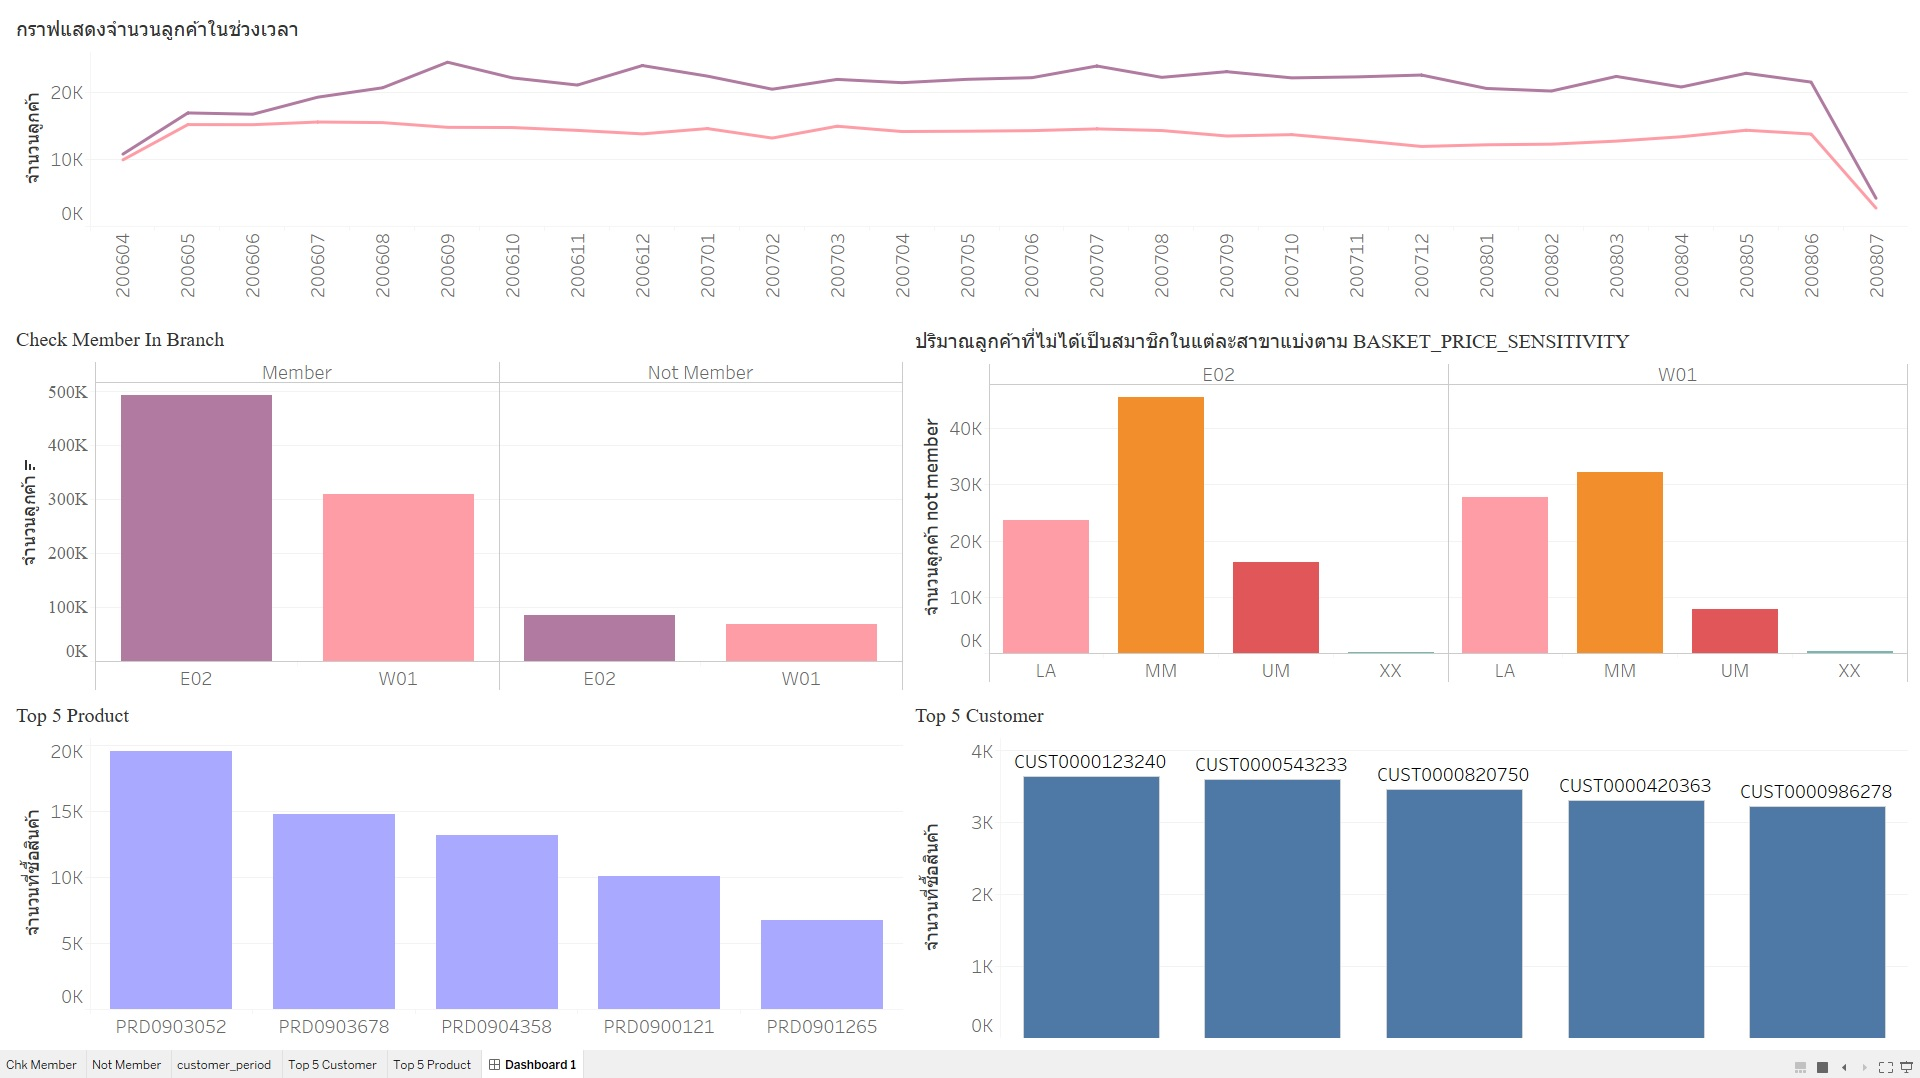

The dashboard page shown, as its layout file describes it:
{"tool":"tableau","page":{"name":"Dashboard 1","canvas":[1654,1169],"ordinal":0},"visuals":[{"type":"worksheet","box":[0,0,1654,1169]},{"type":"worksheet","param":"horz","box":[8,8,1638,1153]},{"type":"worksheet","box":[8,8,1638,1153]},{"type":"worksheet","title":"customer_period","mark":"Line","rows":["Calculation_1438900095078506496"],"cols":["Calculation_1438900095086309379"],"box":[8,8,1638,348.4]},{"type":"worksheet","param":"horz","box":[8,356.4,1638,804.6]},{"type":"worksheet","box":[8,356.4,1638,804.6]},{"type":"worksheet","param":"horz","box":[8,356.4,1638,804.6]},{"type":"worksheet","param":"horz","box":[8,356.4,1638,804.6]},{"type":"worksheet","param":"horz","box":[8,356.4,1638,804.6]},{"type":"worksheet","param":"horz","box":[8,356.4,1638,804.6]},{"type":"worksheet","box":[8,356.4,1638,804.6]},{"type":"worksheet","title":"Chk Member","mark":"Automatic","rows":["Calculation_1438900095078506496"],"cols":["Calculation_1438900095078608897","STORE_REGION"],"box":[8,356.4,773.4,418.2]},{"type":"worksheet","title":"Not Member","mark":"Automatic","rows":["Calculation_1438900095078506496"],"cols":["STORE_REGION","BASKET_PRICE_SENSITIVITY"],"box":[781.4,356.4,864.6,418.2]},{"type":"worksheet","title":"Top 5 Product","mark":"Automatic","rows":["Calculation_1438900095089205252"],"cols":["PROD_CODE"],"box":[8,774.6,773.4,386.4]},{"type":"worksheet","title":"Top 5 Customer","mark":"Automatic","rows":["Calculation_1438900095089205252"],"cols":["CUST_CODE"],"box":[781.4,774.6,864.6,386.4]}]}

Visuals, with their boxes on the page's 1654x1169 design canvas (x1, y1, x2, y2). These are canvas units, not pixel positions in the 1920x1078 screenshot, which may show the page scaled, cropped or inside an application window:
worksheet: [x1=0, y1=0, x2=1654, y2=1169]
worksheet: [x1=8, y1=8, x2=1646, y2=1161]
worksheet: [x1=8, y1=8, x2=1646, y2=1161]
"customer_period" worksheet (Line marks): [x1=8, y1=8, x2=1646, y2=356]
worksheet: [x1=8, y1=356, x2=1646, y2=1161]
worksheet: [x1=8, y1=356, x2=1646, y2=1161]
worksheet: [x1=8, y1=356, x2=1646, y2=1161]
worksheet: [x1=8, y1=356, x2=1646, y2=1161]
worksheet: [x1=8, y1=356, x2=1646, y2=1161]
worksheet: [x1=8, y1=356, x2=1646, y2=1161]
worksheet: [x1=8, y1=356, x2=1646, y2=1161]
"Chk Member" worksheet: [x1=8, y1=356, x2=781, y2=775]
"Not Member" worksheet: [x1=781, y1=356, x2=1646, y2=775]
"Top 5 Product" worksheet: [x1=8, y1=775, x2=781, y2=1161]
"Top 5 Customer" worksheet: [x1=781, y1=775, x2=1646, y2=1161]
